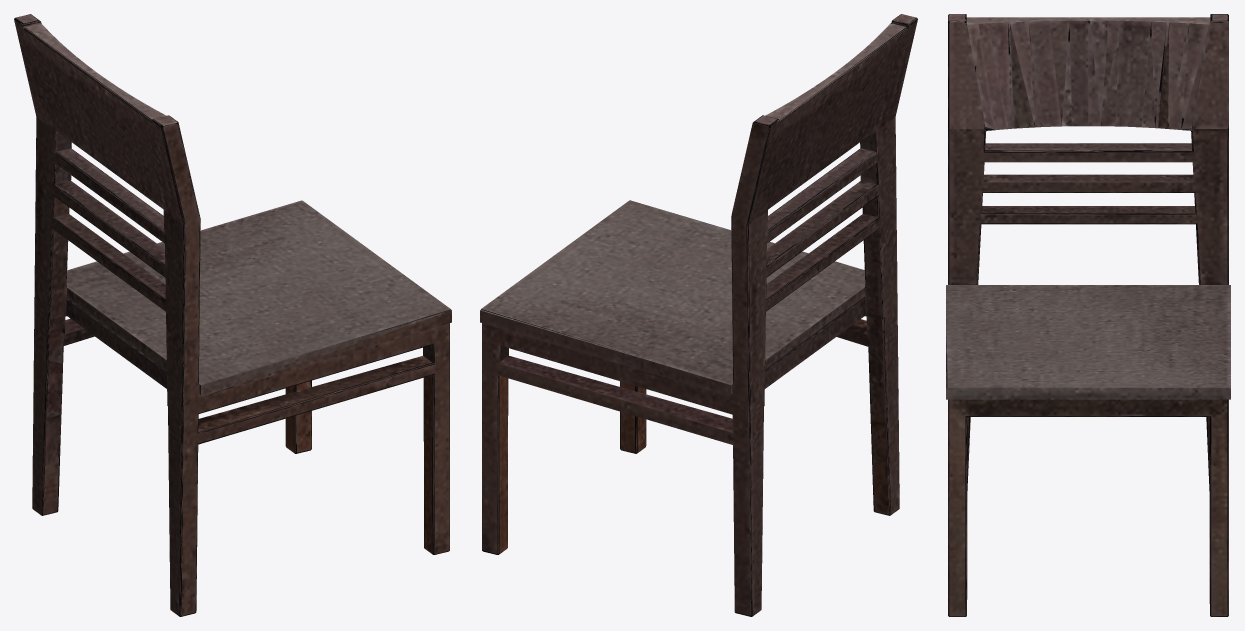
3 renders of one model, left to right at view 1: azimuth 30°, elevation 25°; view 2: azimuth 150°, elevation 25°; view 3: azimuth 270°, elevation 25°, orthographic. The views are drawn at different scales.
Parts seen in each view (by area): view 1: Node; view 2: Node; view 3: Node.
Part boxes in pixels (x1,y1,x2,y2): Node: (14,14,451,616); Node: (480,14,917,616); Node: (946,14,1230,616).
Size of the model in its own units: 0.4268 by 0.7 by 0.3841.
1 material, 1 textured.
